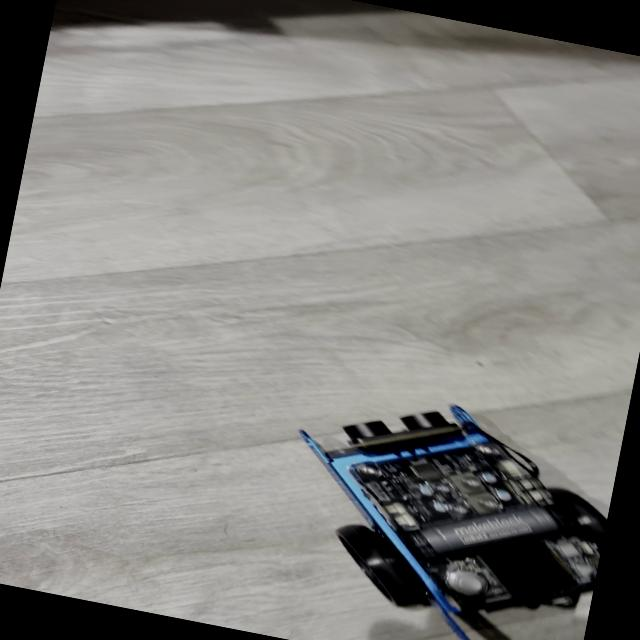mbot-detection: (253, 369, 624, 640)
